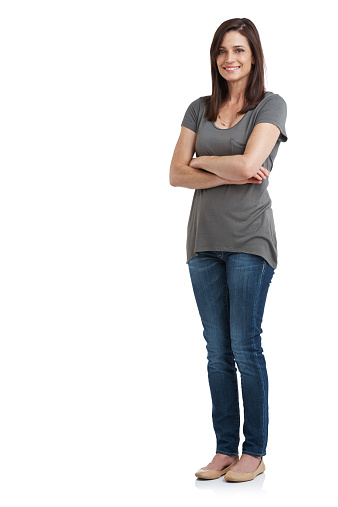em pe: (158, 15, 294, 507)
